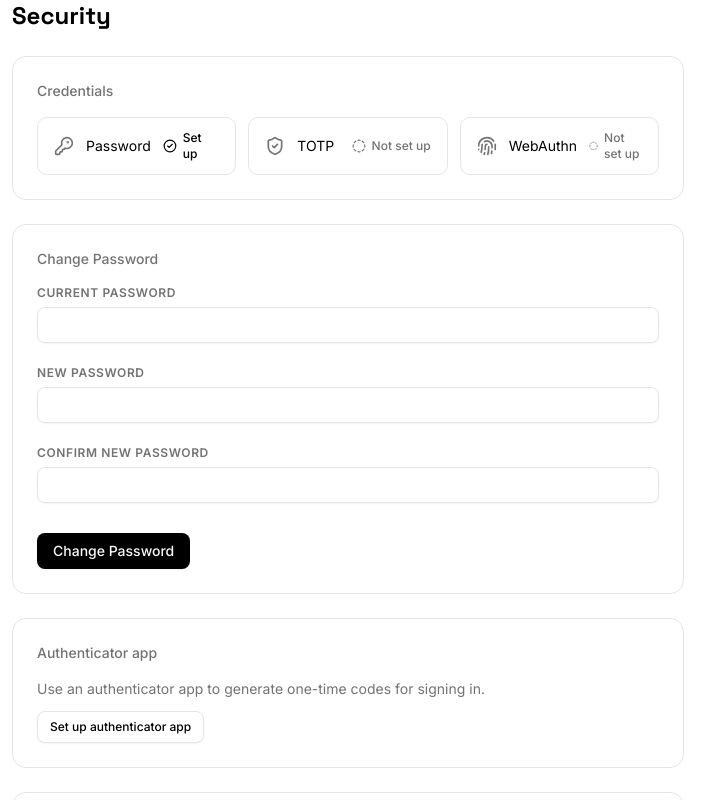
Test: PasswordPage › TOTP enrollment › starts enrollment and renders the QR svg, grouped secret and fallback link
Check: the text "Password" is shown, box [86,136,151,156]
Click the button "Set up authenticator app". click: (121, 727)
box: [37,711,204,743]
(page scrolled)
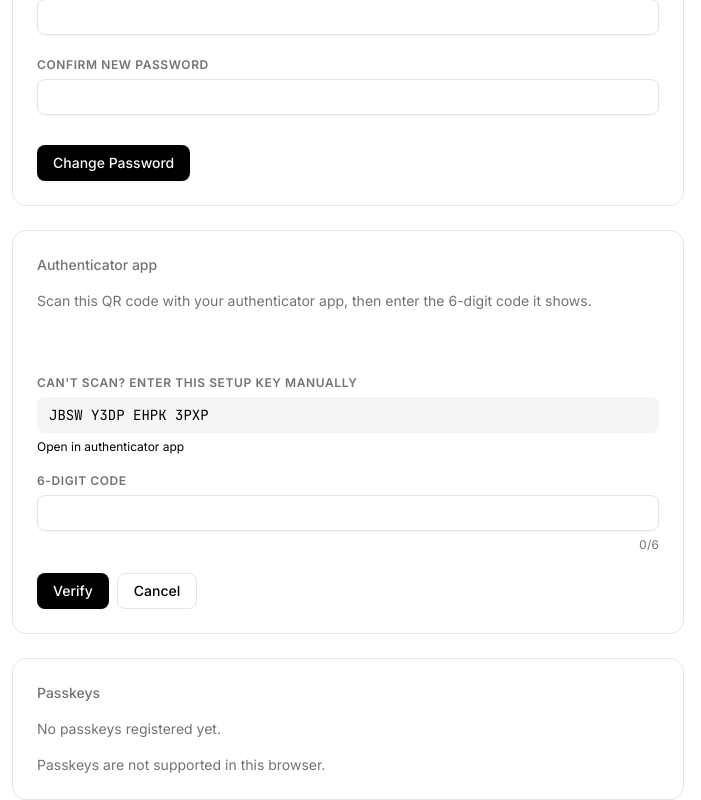
Check: the text "JBSW Y3DP EHPK 3PXP" is shown, box [37,397,659,433]
Check: the button "Set up authenticator app" is gone
